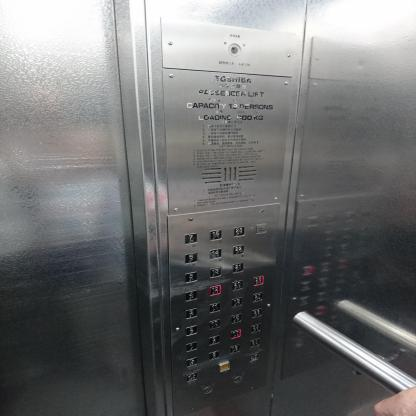1: (186, 341, 198, 353)
10: (209, 319, 220, 330)
11: (209, 302, 222, 314)
12: (209, 284, 221, 296)
13: (209, 266, 222, 278)
14: (210, 248, 223, 260)
15: (209, 229, 222, 241)
16: (229, 344, 240, 355)
17: (230, 328, 241, 340)
18: (231, 313, 242, 324)
19: (231, 296, 243, 308)
2: (185, 324, 198, 336)
20: (232, 280, 244, 291)
21: (232, 262, 244, 274)
22: (233, 244, 244, 256)
23: (233, 226, 245, 237)
24: (250, 338, 260, 348)
25: (250, 323, 262, 334)
26: (251, 308, 262, 318)
27: (252, 292, 263, 303)
28: (253, 275, 264, 286)
3: (184, 308, 198, 320)
4: (184, 290, 198, 302)
5: (184, 271, 198, 283)
6: (184, 252, 198, 265)
7: (184, 232, 198, 245)
8: (208, 350, 220, 361)
9: (208, 334, 220, 346)
G: (185, 357, 198, 368)
alarm: (218, 360, 230, 373)
close: (248, 352, 259, 362)
open: (186, 372, 198, 382)
text_overload: (256, 222, 267, 235)
